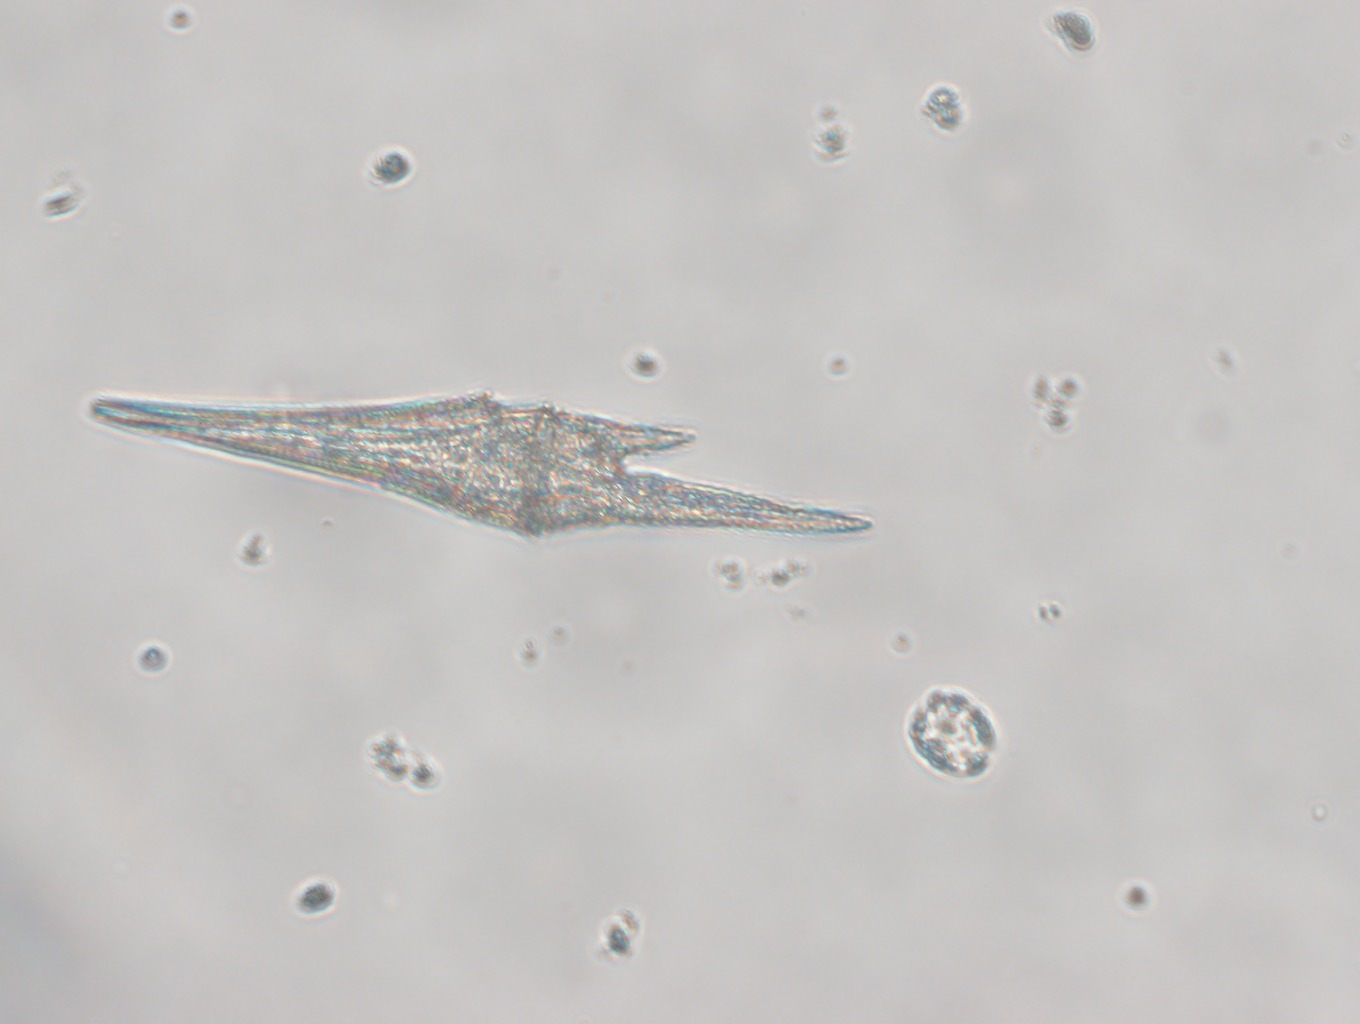ceratium furca: (80, 392, 873, 543)
